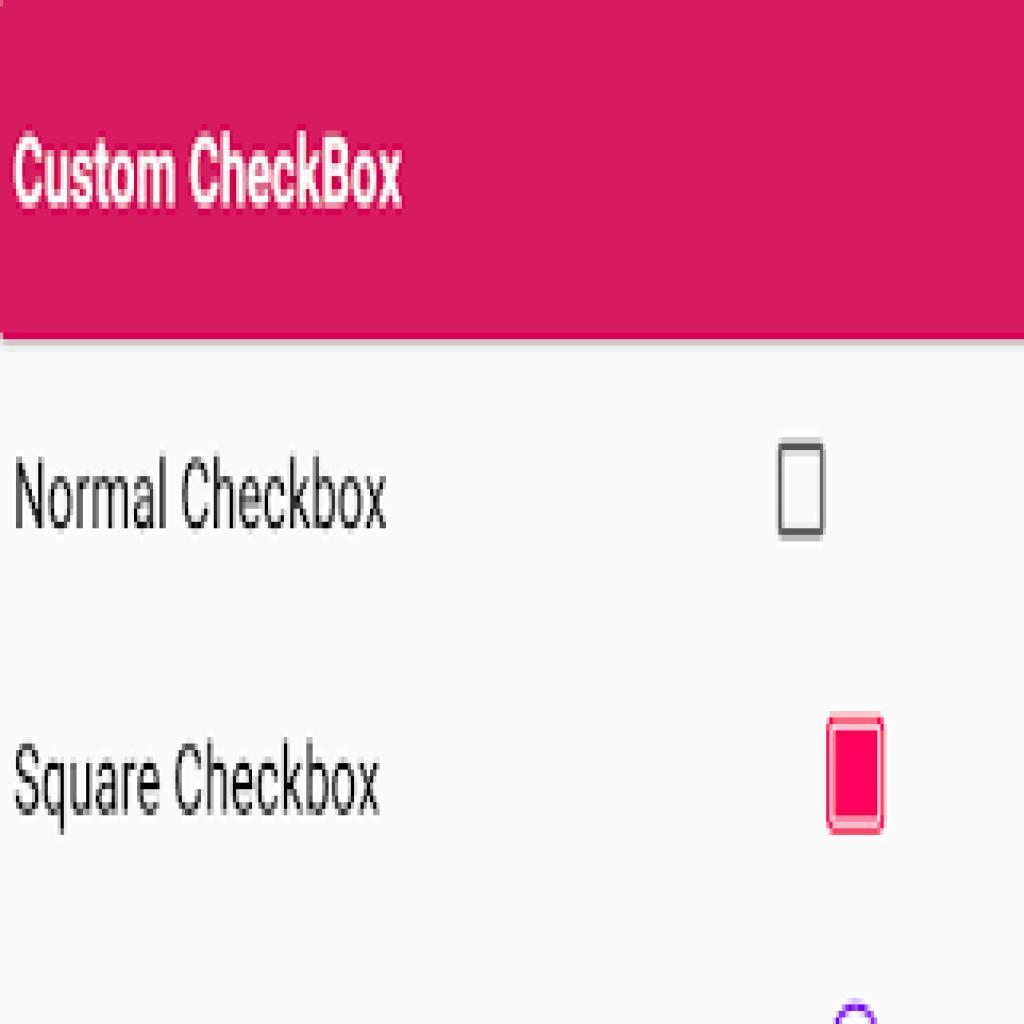checkbox: (827, 716, 886, 836), (777, 444, 828, 537)
